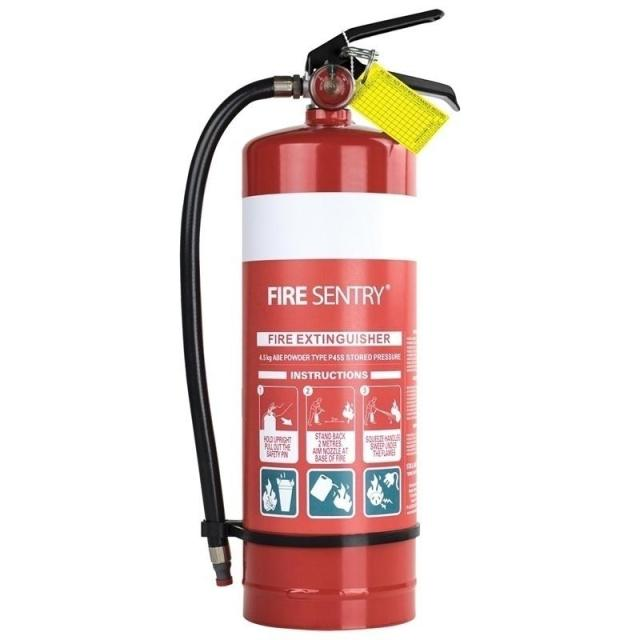fire_extinguisher: (174, 4, 471, 634)
